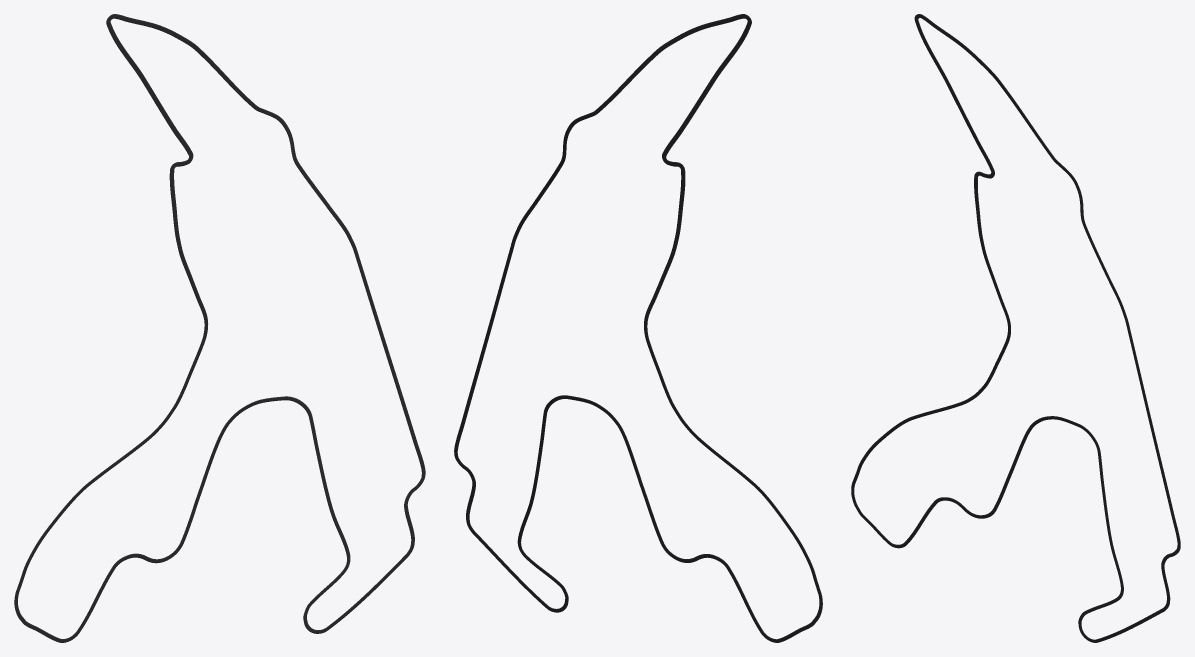
The model's file is road_textured.obj.
3 views of the same model, side by side, from view 1: azimuth 30°, elevation 25°; view 2: azimuth 150°, elevation 25°; view 3: azimuth 330°, elevation 25° (orthographic). The views are drawn at different scales.
Parts seen in each view (by area): view 1: URRC; view 2: URRC; view 3: URRC.
Part boxes in pixels (box(x1,y1,x2,y2)): URRC: box(14, 14, 425, 642); URRC: box(454, 14, 822, 642); URRC: box(851, 14, 1180, 642).
Size of the model in its own units: 258 by 415 by 20.55.
1 material, 1 textured.
